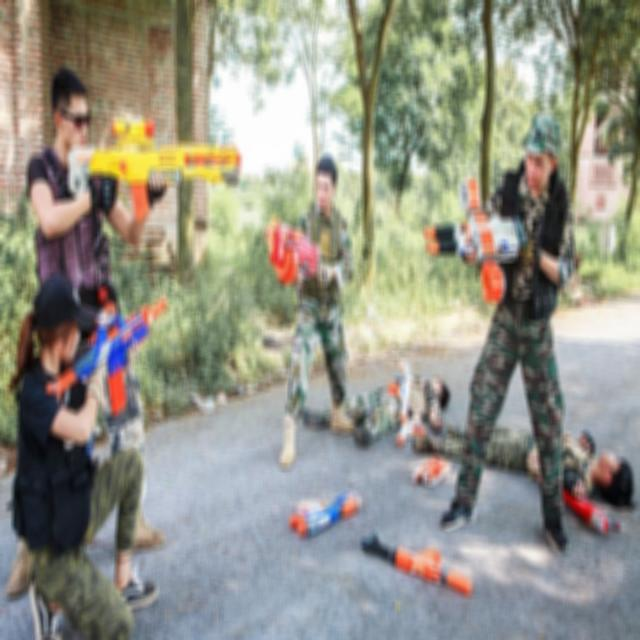Nerf gun: (61, 117, 245, 224), (38, 286, 170, 427), (420, 174, 534, 304), (356, 528, 476, 610), (285, 480, 363, 550), (256, 212, 324, 289), (556, 478, 624, 537), (407, 442, 456, 491), (386, 360, 416, 422), (396, 408, 427, 446)
